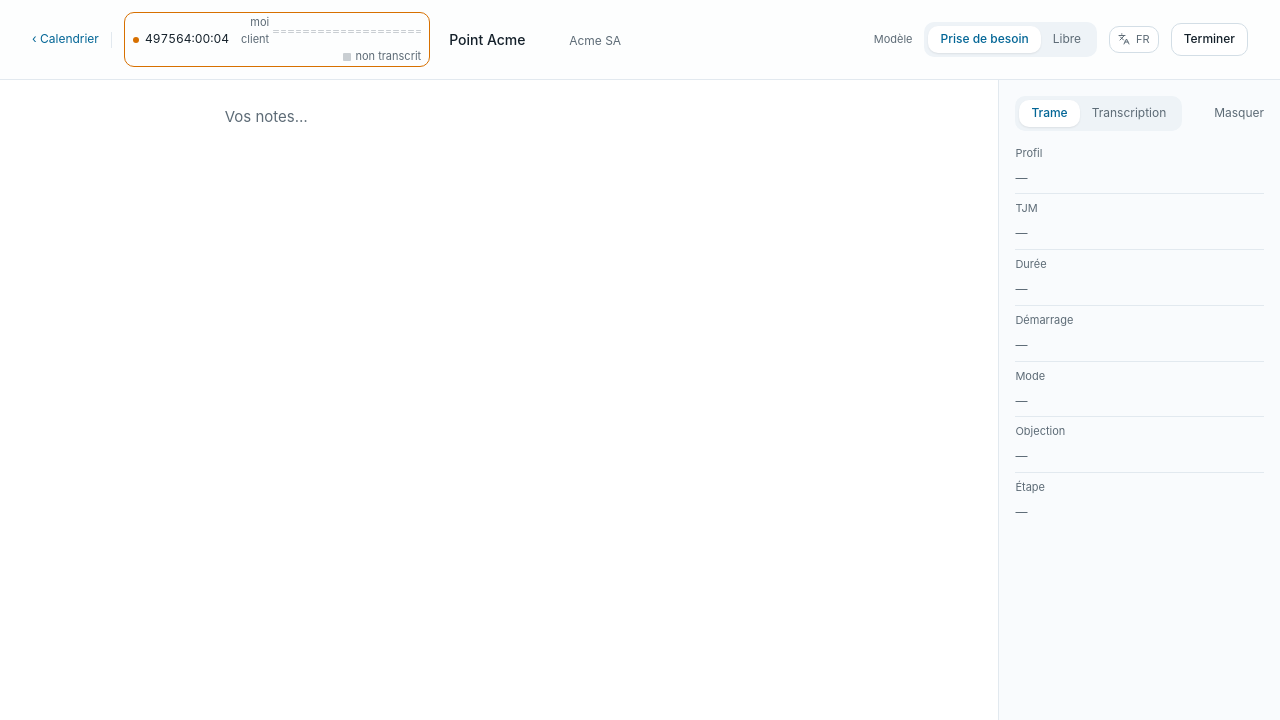
Test: the column opens on the slate and the transcript is asked for › the find box marks, and never filters away the context
Expected: the button "Terminer" is shown, [1171,23,1248,56]
Click the button "Transcription". click: (1129, 113)
box: [1080,100,1178,127]
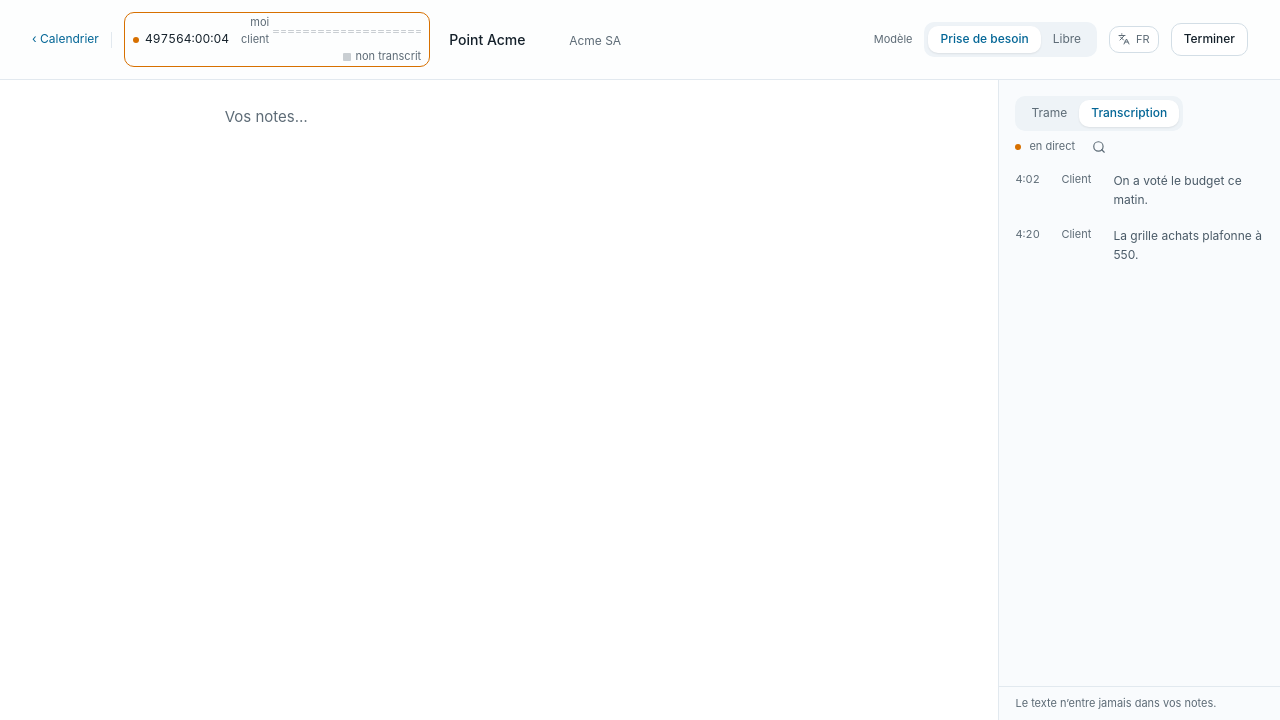
Click the button named "Chercher dans la transcription". click: (1099, 147)
box: [1087,135,1111,159]
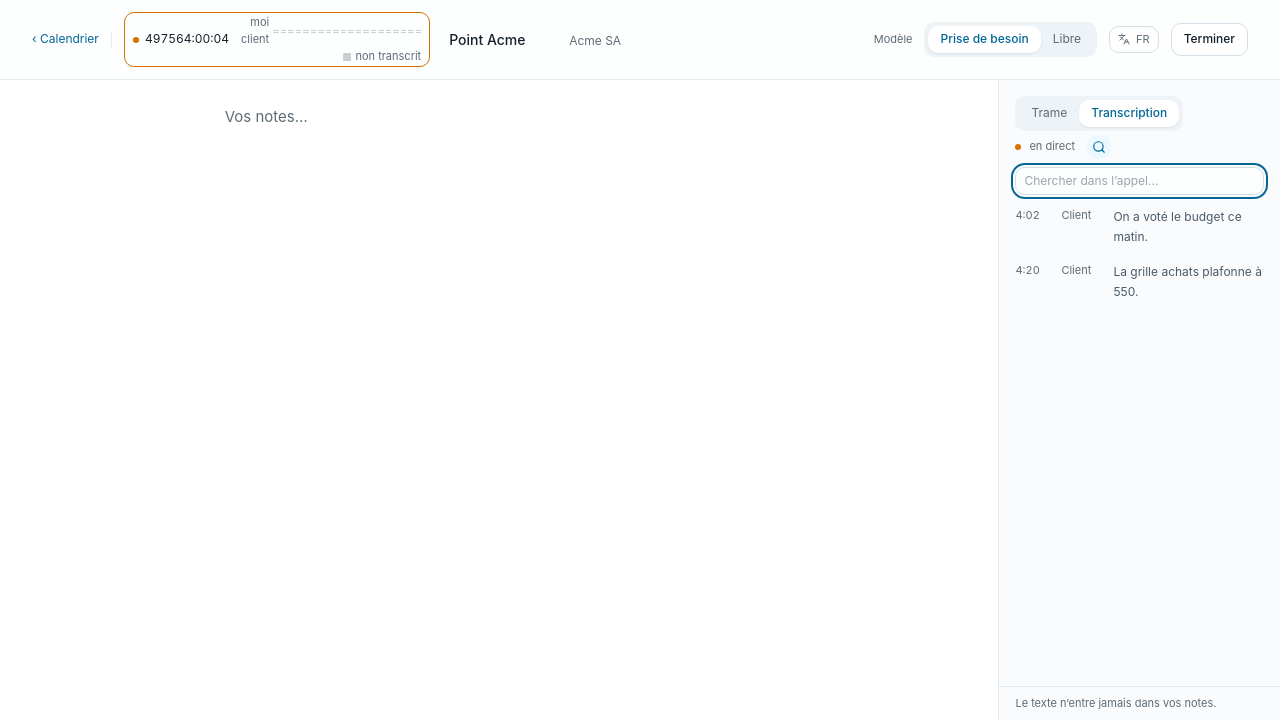
Type "achats" into the field labelled "Chercher dans l’appel". click: (1140, 181)
box: [1015,167,1264,195]
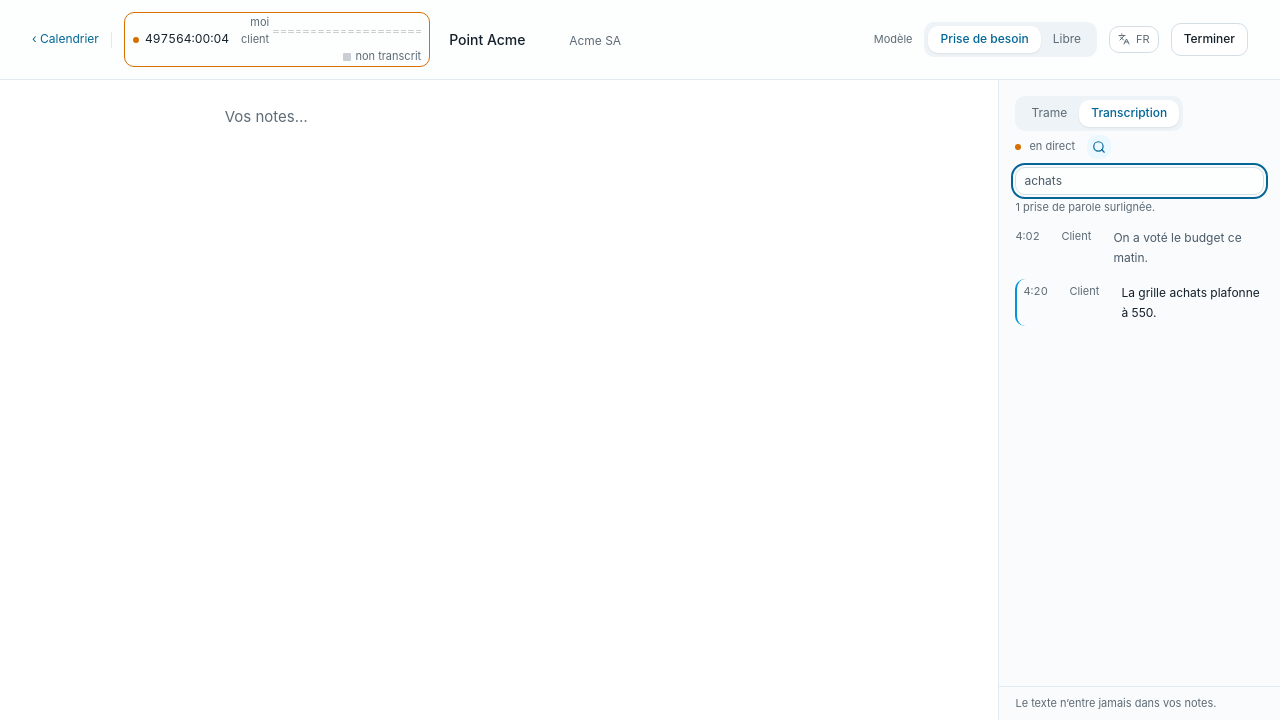
Expected: the text "On a voté le budget ce matin." is shown, [1113,228,1264,267]
Expected: the text "La grille achats plafonne à 550." is shown, [1121,283,1264,322]
Expected: the text "1 prise de parole surlignée." is shown, [1015,200,1155,214]
